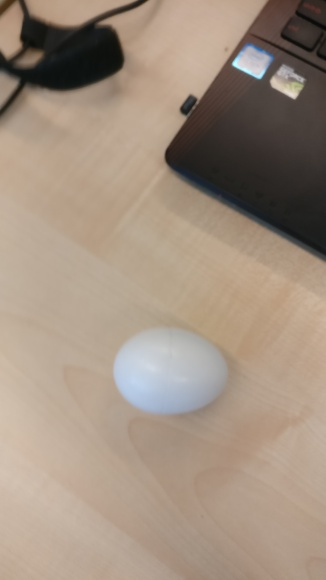egg: (112, 324, 230, 416)
